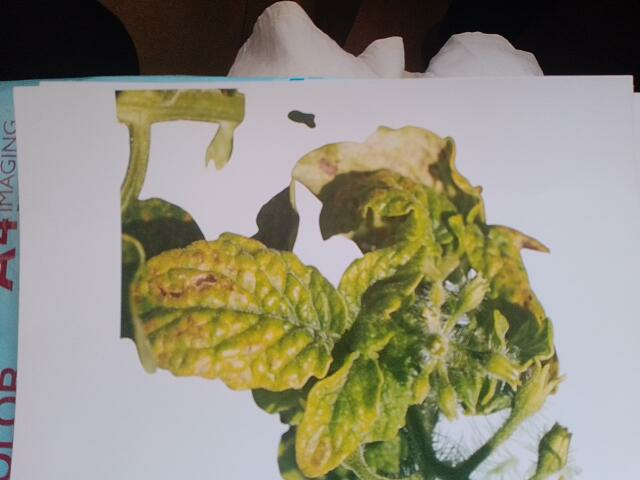Grape_Blight_Leaf: (257, 29, 515, 303)
